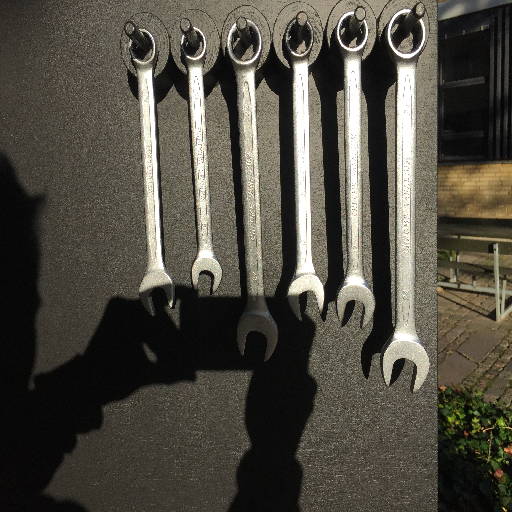bottom: (379, 331, 431, 394), (235, 307, 280, 363), (336, 274, 377, 330), (285, 272, 326, 323), (136, 269, 177, 317), (190, 253, 224, 295)
top: (384, 6, 428, 61), (225, 18, 264, 69), (335, 10, 370, 58), (282, 15, 317, 60), (126, 26, 159, 68), (179, 27, 208, 65)
